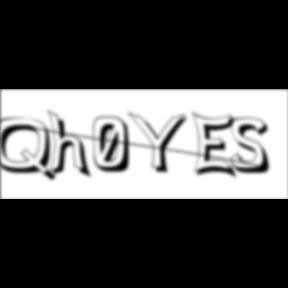0: (92, 115, 138, 174)
E: (192, 110, 242, 182)
Q: (1, 117, 60, 184)
S: (231, 117, 277, 176)
Y: (128, 110, 194, 176)
h: (48, 108, 94, 182)
